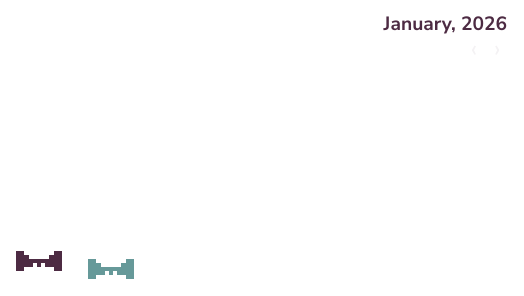
Test: GitHubContributions › hover tooltip › hides the tooltip when the pointer leaves the bird
Hover over the picture named "2026-01-02: 5 contributions" at (112, 269), box [88,259,134,280]
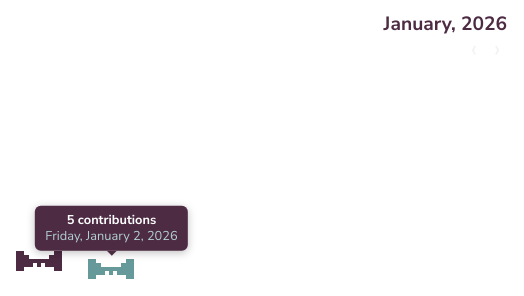
Expected: the tooltip "5 contributions Friday, January 2, 2026" is shown, [35,205,188,251]
Move the pointer off the picture named "2026-01-02: 5 contributions", box [88,259,134,280]
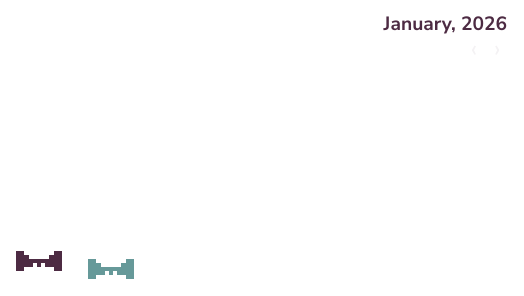
Expected: the tooltip "5 contributions Friday, January 2, 2026" is gone
